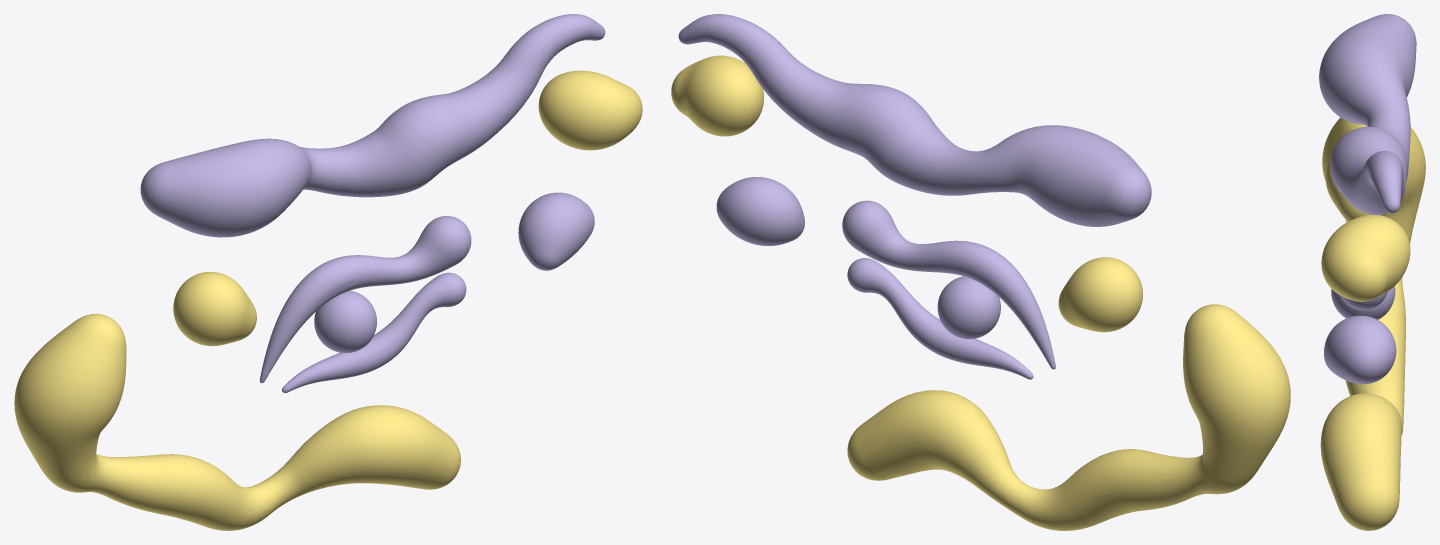
3 views of the same model, side by side, from view 1: azimuth 30°, elevation 25°; view 2: azimuth 150°, elevation 25°; view 3: azimuth 270°, elevation 25° (orthographic). The views are drawn at different scales.
Visible parts, largest first — view 1: line2, line1, eye, blob3, blob1, blob2; view 2: line2, line1, eye, blob3, blob1, blob2; view 3: line1, line2, blob3, blob2, eye, blob1.
Boxes of the visible parts, box(x1,y1,x2,y2) form: line2: box(14, 313, 460, 530); line1: box(140, 14, 605, 237); eye: box(259, 216, 471, 392); blob3: box(538, 70, 642, 150); blob1: box(173, 272, 256, 346); blob2: box(518, 192, 594, 270); line2: box(847, 304, 1290, 530); line1: box(678, 14, 1151, 226); eye: box(842, 200, 1055, 379); blob3: box(671, 55, 763, 136); blob1: box(1058, 257, 1142, 332); blob2: box(716, 177, 804, 245); line1: box(1319, 14, 1416, 214); line2: box(1320, 117, 1425, 530); blob3: box(1321, 214, 1410, 301); blob2: box(1324, 315, 1396, 384); eye: box(1331, 286, 1395, 319); blob1: box(1325, 158, 1385, 221).
Size of the model in its own units: 68.28 by 45.89 by 10.11.
